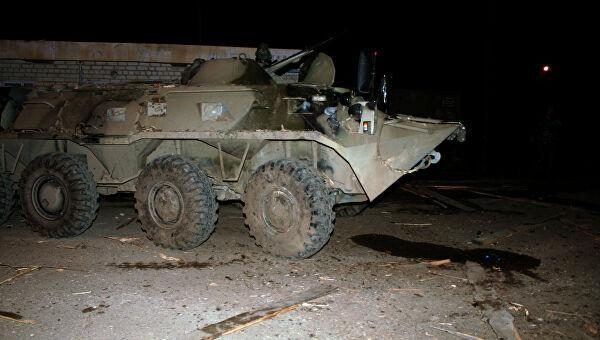tank: (0, 42, 467, 262)
